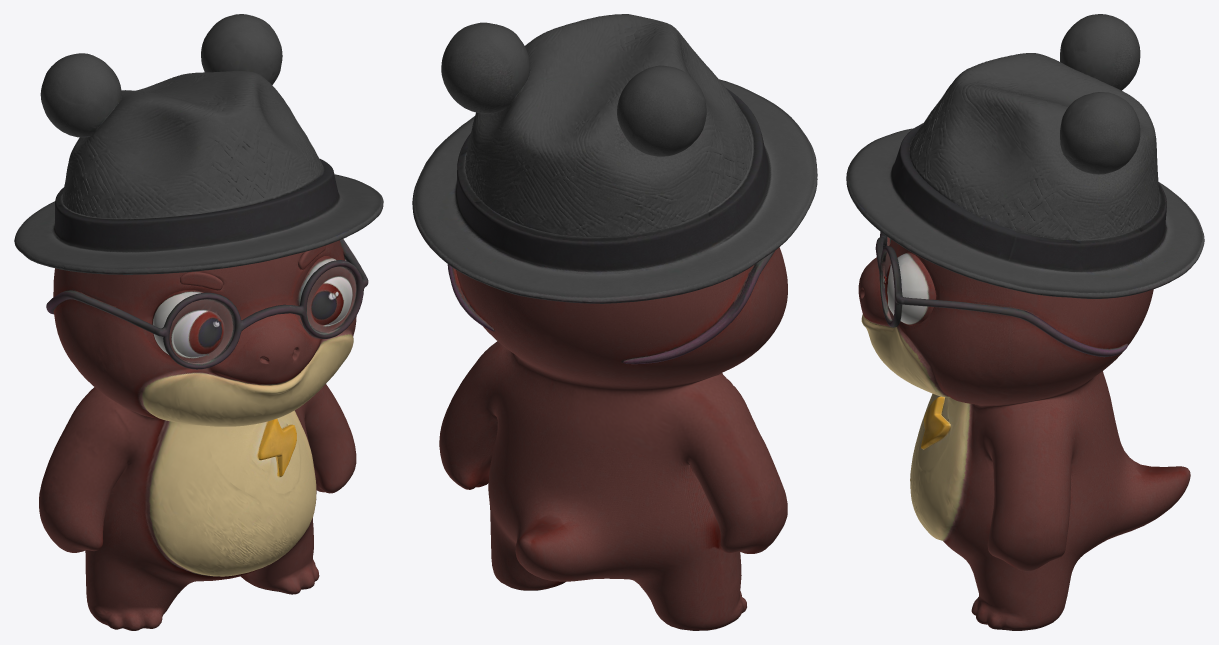
Rendered from fort_frontal.glb.
3 renders of one model, left to right at view 1: azimuth 30°, elevation 25°; view 2: azimuth 150°, elevation 25°; view 3: azimuth 270°, elevation 25°, orthographic. The views are drawn at different scales.
Bounding box in the file's own units: 0.623 × 0.9798 × 0.6042.
Materials: 1 (1 with a texture image).
